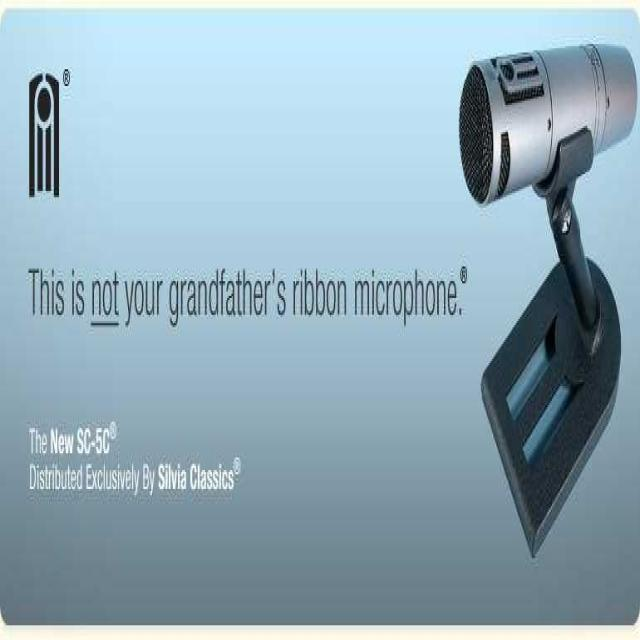microphone: (458, 40, 639, 214)
